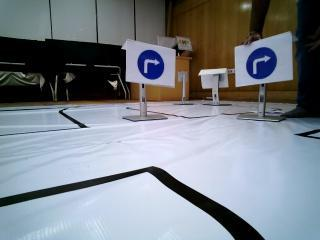right: (229, 41, 291, 83), (125, 42, 173, 88)
